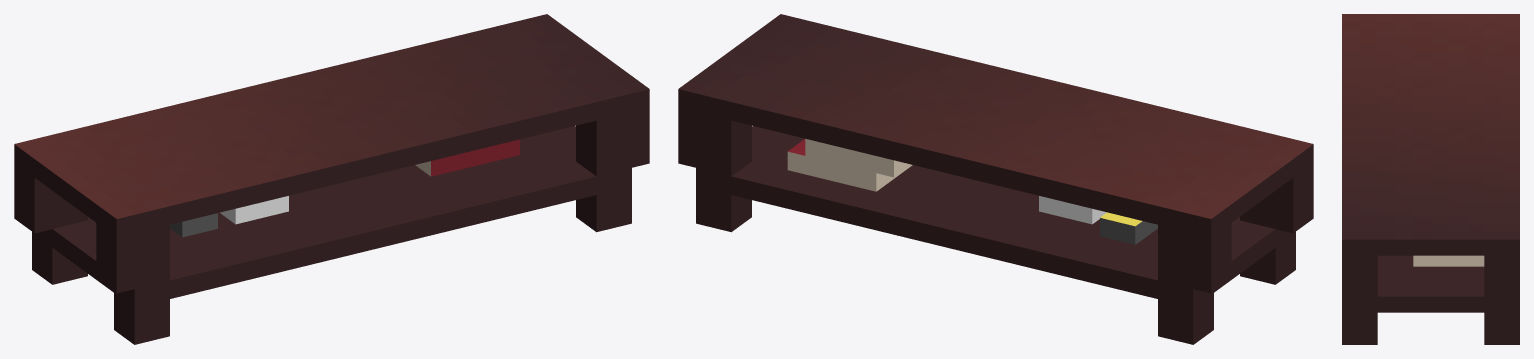
The model's file is CoffeeTable.fbx.
3 renders of one model, left to right at view 1: azimuth 30°, elevation 25°; view 2: azimuth 150°, elevation 25°; view 3: azimuth 270°, elevation 25°, orthographic. The views are drawn at different scales.
Parts seen in each view (by area): view 1: cube_4, bottomplank, cube_1, cube, cube_2, foot_3, foot_2, cube_5, foot_1, cube_7, cube_8; view 2: cube_4, bottomplank, cube_2, cube_3, cube_1, foot_1, cube_5, foot, cube_6, foot_3, cube_8, cube_7; view 3: cube_4, bottomplank, cube, cube_3, foot, foot_2, cube_5.
Part boxes in pixels (left/top/right/bottom): cube_4: left=14, top=14, right=649, bottom=237; bottomplank: left=32, top=126, right=631, bottom=307; cube_1: left=96, top=223, right=169, bottom=293; cube: left=576, top=108, right=649, bottom=176; cube_2: left=14, top=163, right=87, bottom=233; foot_3: left=114, top=293, right=169, bottom=344; foot_2: left=576, top=186, right=631, bottom=232; cube_5: left=415, top=139, right=519, bottom=176; foot_1: left=32, top=233, right=87, bottom=284; cube_7: left=220, top=196, right=288, bottom=224; cube_8: left=170, top=213, right=217, bottom=237; cube_4: left=678, top=14, right=1313, bottom=237; bottomplank: left=696, top=126, right=1295, bottom=307; cube_2: left=1158, top=223, right=1231, bottom=293; cube_3: left=678, top=108, right=751, bottom=176; cube_1: left=1240, top=163, right=1313, bottom=233; foot_1: left=1158, top=293, right=1213, bottom=344; cube_5: left=787, top=139, right=912, bottom=191; foot: left=696, top=186, right=751, bottom=232; cube_6: left=805, top=139, right=911, bottom=177; foot_3: left=1240, top=233, right=1295, bottom=284; cube_8: left=1100, top=212, right=1157, bottom=244; cube_7: left=1039, top=196, right=1106, bottom=224; cube_4: left=1342, top=14, right=1519, bottom=255; bottomplank: left=1342, top=255, right=1519, bottom=312; cube: left=1342, top=255, right=1377, bottom=303; cube_3: left=1484, top=255, right=1519, bottom=303; foot: left=1484, top=312, right=1519, bottom=344; foot_2: left=1342, top=312, right=1377, bottom=344; cube_5: left=1413, top=255, right=1484, bottom=266.
Bounding box in the file's own units: 188 × 43.75 × 62.5.
2 materials, 2 textured.
